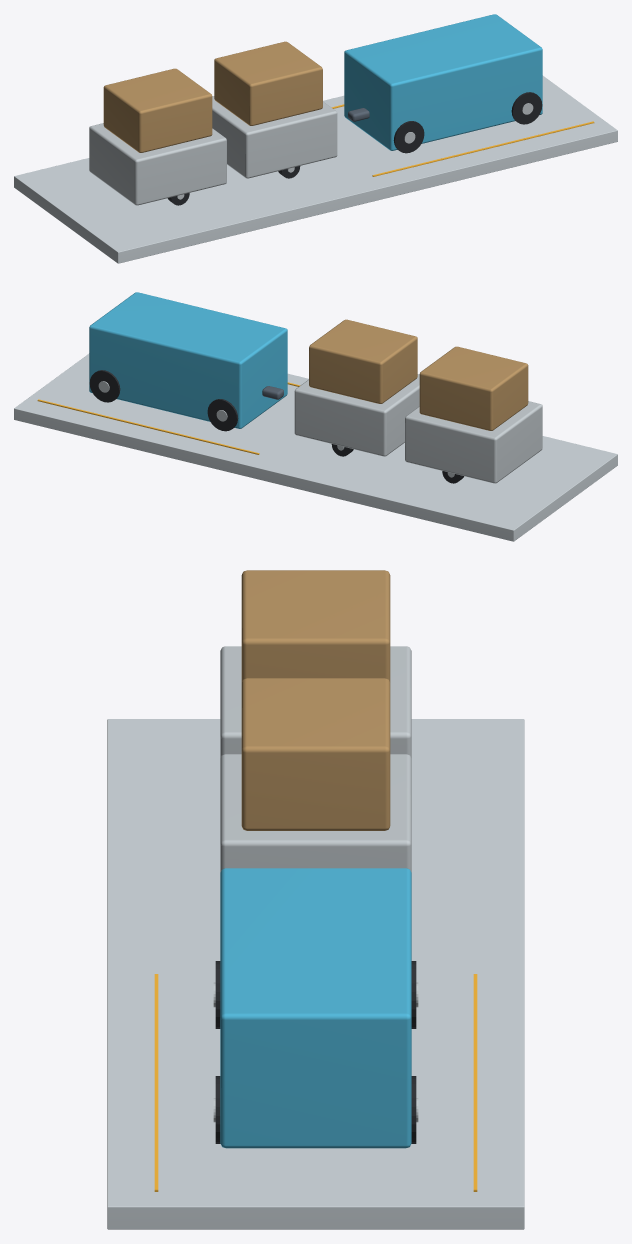
3 views of the same model, one above another, from view 1: azimuth 30°, elevation 25°; view 2: azimuth 150°, elevation 25°; view 3: azimuth 270°, elevation 25° (orthographic). The views are drawn at different scales.
Visible parts, largest first — view 1: Ground plane, Tow tractor chassis, Illustrative tugger cart.001, Cart load.001, Cart load, Illustrative tugger cart, Driven wheel / tyre.002, Driven wheel / tyre, Concept clearance guide; view 2: Ground plane, Tow tractor chassis, Illustrative tugger cart.001, Cart load.001, Cart load, Illustrative tugger cart, Driven wheel / tyre.003, Driven wheel / tyre.001, Concept clearance guide.001; view 3: Ground plane, Tow tractor chassis, Cart load, Cart load.001, Illustrative tugger cart, Illustrative tugger cart.001, Concept clearance guide, Concept clearance guide.001.
Part boxes in pixels (left/top/right/bottom): Ground plane: left=14, top=75, right=617, bottom=263; Tow tractor chassis: left=344, top=14, right=542, bottom=150; Illustrative tugger cart.001: left=89, top=123, right=226, bottom=205; Cart load.001: left=103, top=68, right=212, bottom=152; Cart load: left=214, top=41, right=322, bottom=125; Illustrative tugger cart: left=212, top=96, right=337, bottom=178; Driven wheel / tyre.002: left=511, top=92, right=542, bottom=124; Driven wheel / tyre: left=393, top=121, right=424, bottom=153; Concept clearance guide: left=372, top=121, right=594, bottom=176; Ground plane: left=14, top=353, right=617, bottom=541; Tow tractor chassis: left=89, top=292, right=287, bottom=428; Illustrative tugger cart.001: left=405, top=401, right=542, bottom=483; Cart load.001: left=419, top=346, right=528, bottom=430; Cart load: left=309, top=319, right=417, bottom=403; Illustrative tugger cart: left=294, top=374, right=419, bottom=456; Driven wheel / tyre.003: left=89, top=370, right=120, bottom=402; Driven wheel / tyre.001: left=207, top=399, right=238, bottom=431; Concept clearance guide.001: left=37, top=399, right=259, bottom=454; Ground plane: left=107, top=719, right=524, bottom=1229; Tow tractor chassis: left=220, top=868, right=411, bottom=1148; Cart load: left=241, top=678, right=390, bottom=830; Cart load.001: left=241, top=570, right=390, bottom=682; Illustrative tugger cart: left=220, top=754, right=411, bottom=872; Illustrative tugger cart.001: left=220, top=646, right=411, bottom=758; Concept clearance guide: left=154, top=974, right=158, bottom=1191; Concept clearance guide.001: left=473, top=974, right=477, bottom=1191.
Size of the model in its own units: 5.43 by 1.18 by 1.96.
